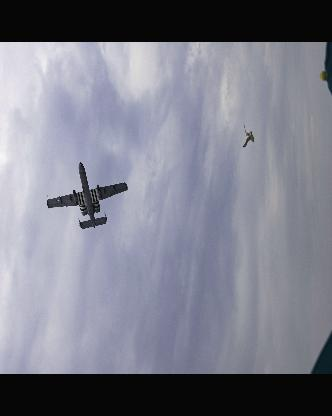A10: (45, 163, 126, 231)
